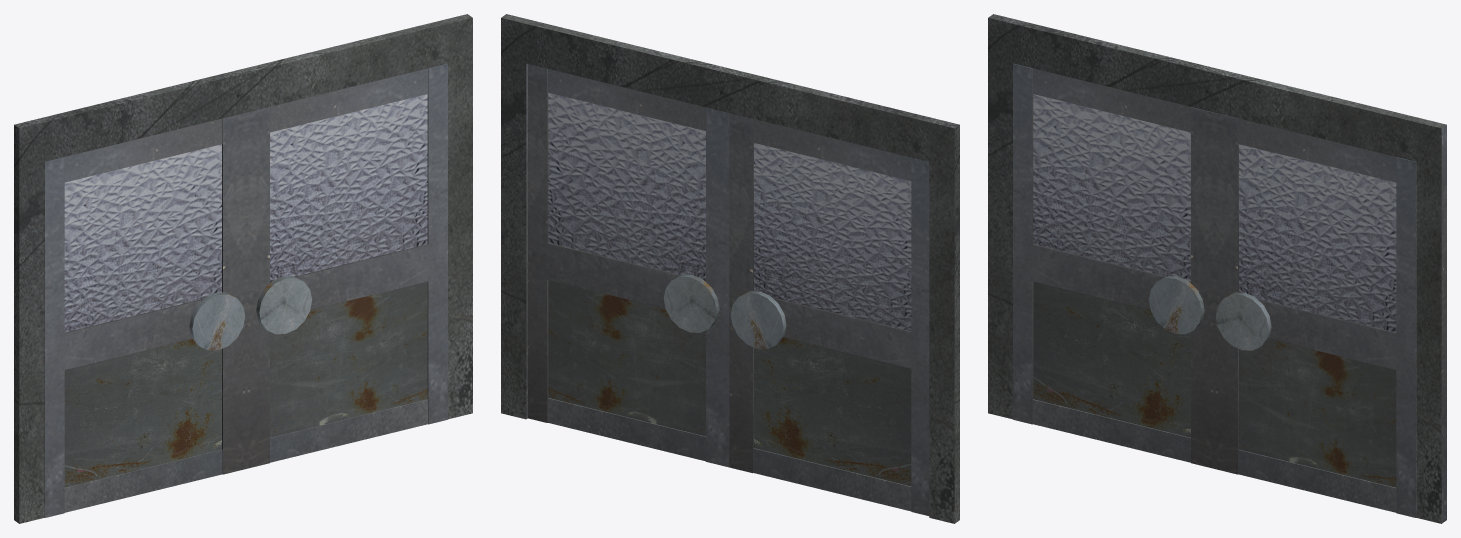
The model's file is EntranceDoor.fbx.
3 views of the same model, side by side, from view 1: azimuth 30°, elevation 25°; view 2: azimuth 150°, elevation 25°; view 3: azimuth 330°, elevation 25° (orthographic).
Parts seen in each view (by area): view 1: E_Door1, E_Door2, E_Flame; view 2: E_Door2, E_Door1, E_Flame; view 3: E_Door2, E_Door1, E_Flame.
Part boxes in pixels (x1,y1,x2,y2): E_Door1: (44,113,246,517); E_Door2: (246,63,447,468); E_Flame: (14,14,472,523); E_Door2: (528,64,729,467); E_Door1: (729,113,929,515); E_Flame: (501,14,959,523); E_Door2: (1214,113,1416,517); E_Door1: (1013,63,1214,468); E_Flame: (988,14,1446,523).
Bounding box in the file's own units: 600 × 500 × 35.91.
